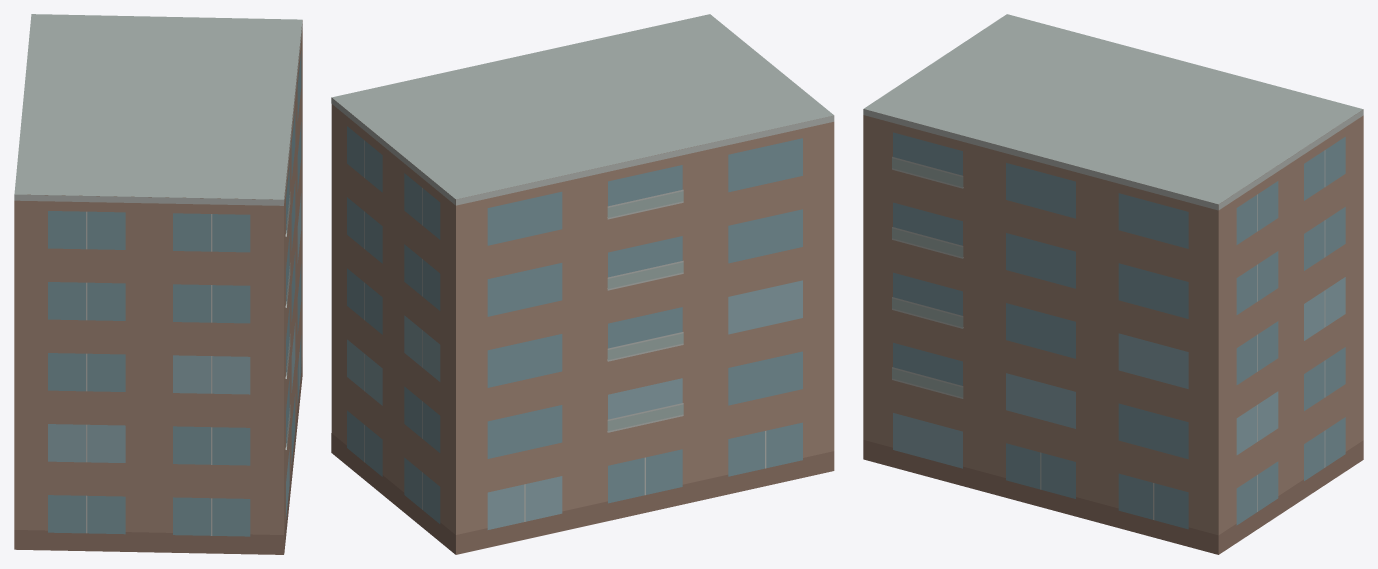
The model's file is survey-upis-32846966.glb.
3 renders of one model, left to right at view 1: azimuth 30°, elevation 25°; view 2: azimuth 150°, elevation 25°; view 3: azimuth 270°, elevation 25°, orthographic.
Visible parts, largest first — view 1: survey-upis-32846966.tmp; view 2: survey-upis-32846966.tmp; view 3: survey-upis-32846966.tmp.
Boxes of the visible parts, box(x1,y1,x2,y2) form: survey-upis-32846966.tmp: box(14, 14, 302, 554); survey-upis-32846966.tmp: box(331, 14, 834, 554); survey-upis-32846966.tmp: box(863, 14, 1363, 554).
Bounding box in the file's own units: 16.2 × 13.9 × 17.98.
